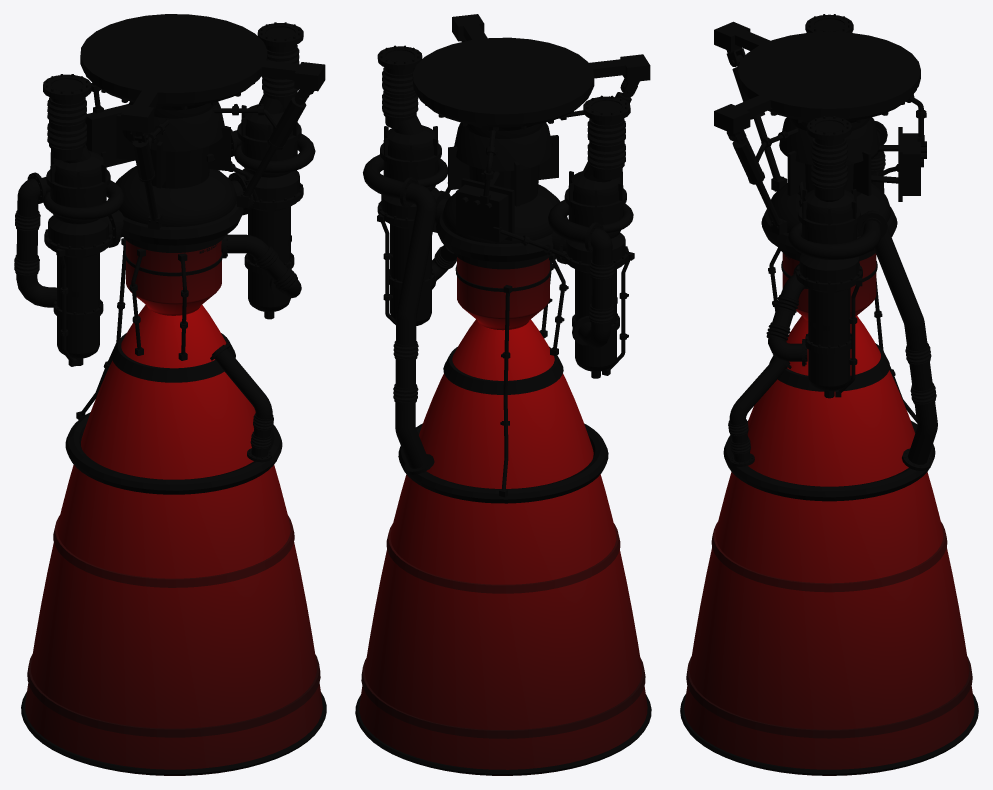
The model's file is eng_methalox_full_flow.fbx.
3 renders of one model, left to right at view 1: azimuth 30°, elevation 25°; view 2: azimuth 150°, elevation 25°; view 3: azimuth 270°, elevation 25°, orthographic. The views are drawn at different scales.
Parts seen in each view (by area): view 1: eng_methalox_full_flow_LOD0; view 2: eng_methalox_full_flow_LOD0; view 3: eng_methalox_full_flow_LOD0.
Boxes of the visible parts, bbox=[...] form: eng_methalox_full_flow_LOD0: bbox=[14, 14, 326, 775]; eng_methalox_full_flow_LOD0: bbox=[355, 14, 651, 775]; eng_methalox_full_flow_LOD0: bbox=[680, 14, 978, 775].
Size of what is drawn, in the model's own units: 1.34 by 3.1 by 1.3.
